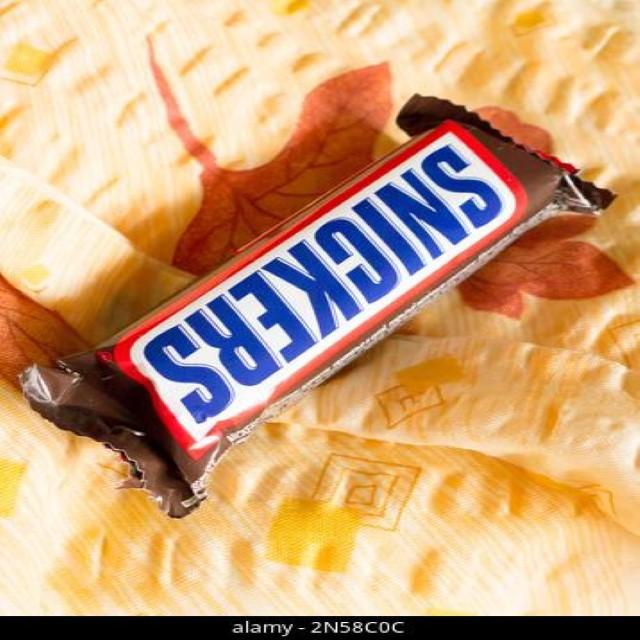snickers_chocolate: (98, 136, 572, 542)
